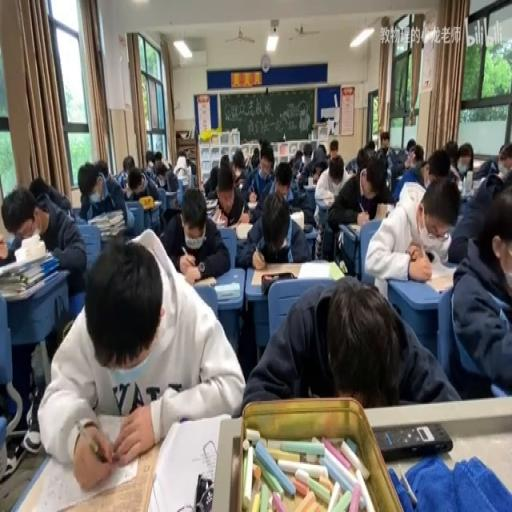calculator: (420, 262, 458, 294), (297, 260, 334, 280), (213, 282, 241, 300), (234, 219, 252, 240), (138, 195, 163, 209), (344, 220, 361, 238), (290, 209, 304, 230), (210, 206, 226, 224), (317, 192, 334, 208), (192, 276, 216, 286), (374, 202, 388, 219), (470, 176, 483, 194), (204, 196, 218, 212), (472, 156, 486, 170), (246, 201, 258, 209), (306, 176, 315, 186), (179, 175, 190, 183)
paper: (42, 229, 243, 488), (241, 274, 454, 410), (1, 180, 86, 306), (448, 154, 510, 266), (326, 151, 392, 256), (161, 185, 229, 280), (234, 185, 310, 266), (78, 159, 130, 229), (391, 145, 426, 202), (243, 144, 275, 204), (298, 142, 323, 184), (151, 156, 179, 192), (230, 145, 250, 184), (0, 230, 17, 266), (28, 175, 50, 202), (204, 165, 218, 199), (274, 164, 291, 192), (484, 170, 503, 194), (444, 140, 458, 170), (456, 145, 472, 171), (497, 143, 512, 170), (126, 171, 142, 195), (328, 162, 343, 184), (95, 159, 109, 178), (122, 154, 134, 176), (356, 148, 366, 171), (328, 138, 338, 161), (145, 149, 155, 171), (292, 148, 302, 168), (186, 158, 197, 176), (375, 145, 386, 161), (317, 142, 326, 156), (405, 136, 414, 150), (366, 138, 375, 151), (413, 155, 422, 168), (244, 154, 252, 168), (219, 154, 229, 165), (154, 155, 160, 165), (304, 152, 310, 161), (166, 161, 172, 169)
person: (374, 422, 451, 461), (194, 471, 214, 509), (262, 272, 294, 294), (338, 257, 347, 273), (424, 252, 434, 260)
